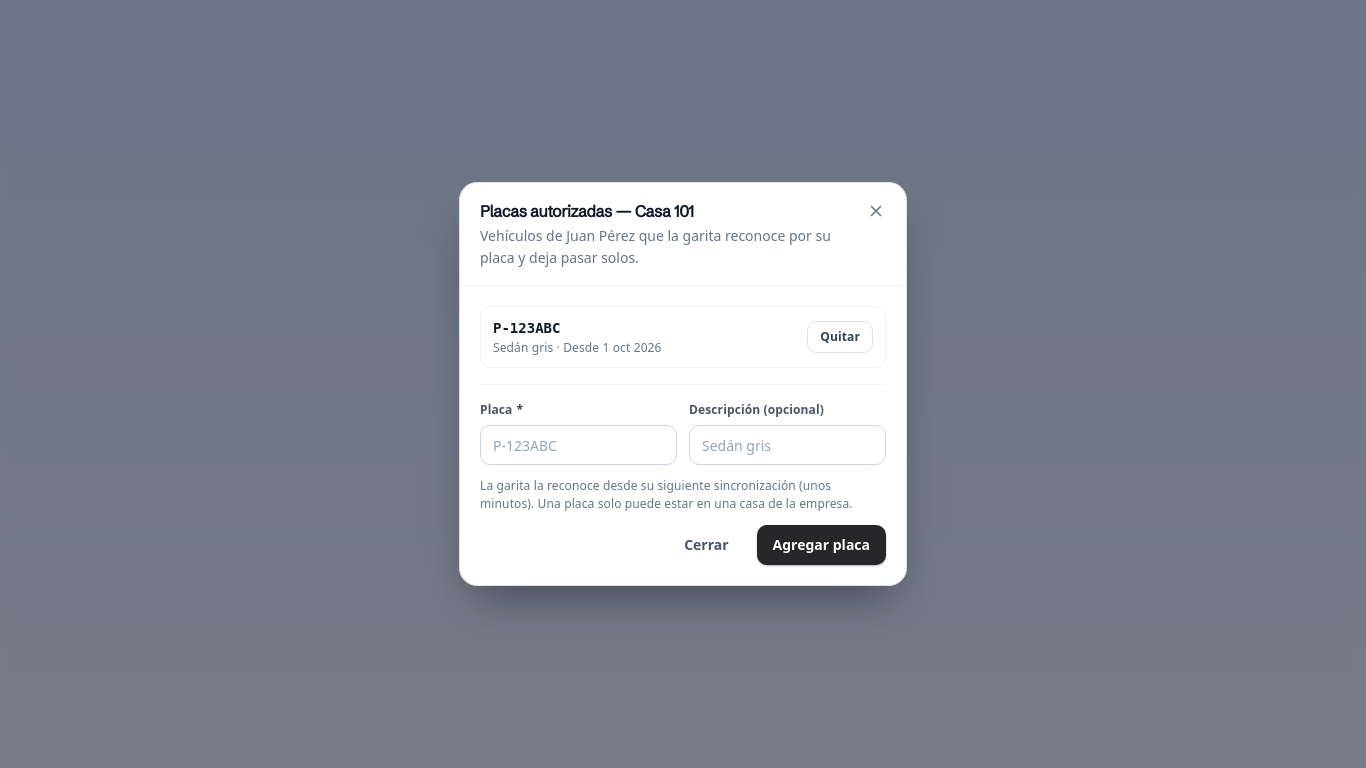
it: PlacasResidente › alta: valida el formato guatemalteco antes de enviar y agrega la placa normalizada
expect the text "P-123ABC" is shown: met, box [493,320,560,336]
Type "ABC1234" into the field labelled "Placa*" at point(578, 445), box [480,425,677,465]
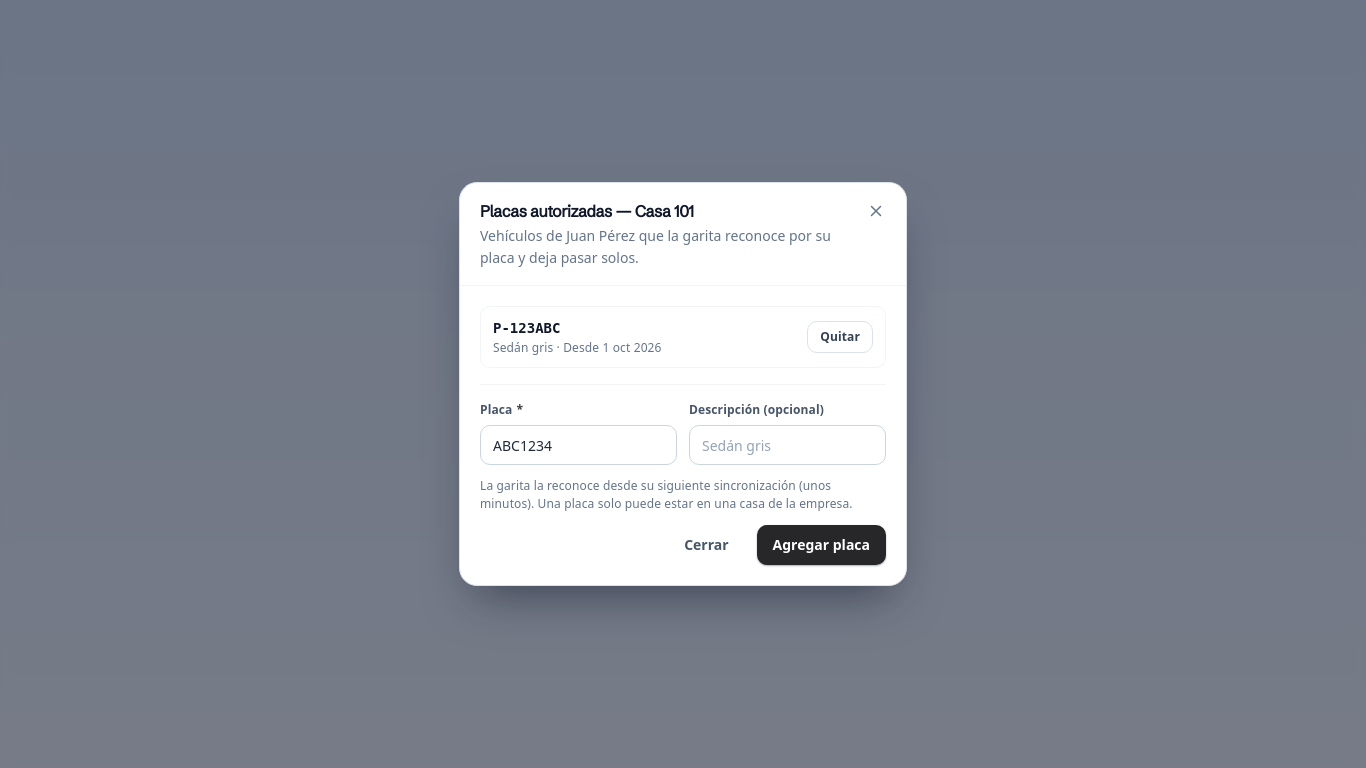
Click the button "Agregar placa" at point(821, 545), box [757,525,886,565]
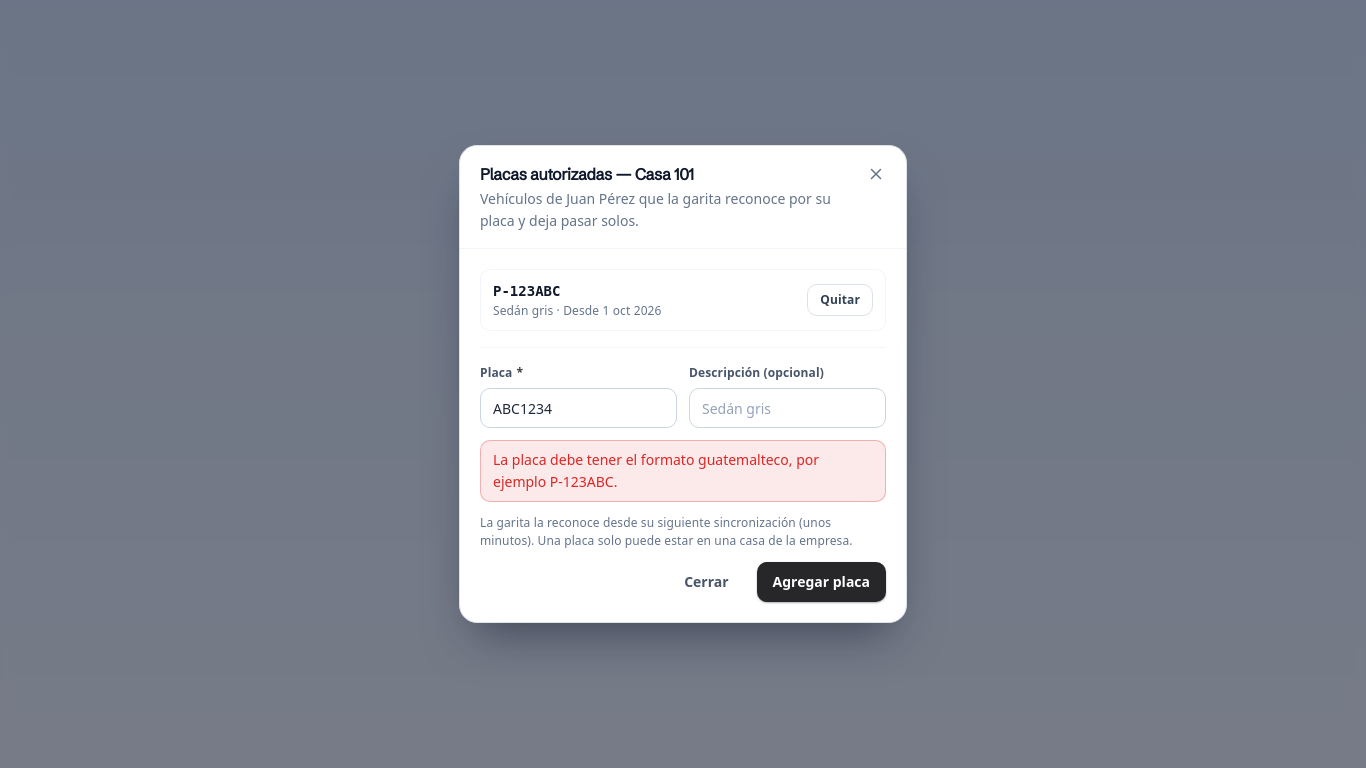
expect the message reads "La placa debe tener el formato guatemalteco, por ejemplo P-123ABC.": met, box [493,450,819,491]
Replace the text in the field labelled "Placa*" with "p 777res" at point(578, 408), box [480,388,677,428]
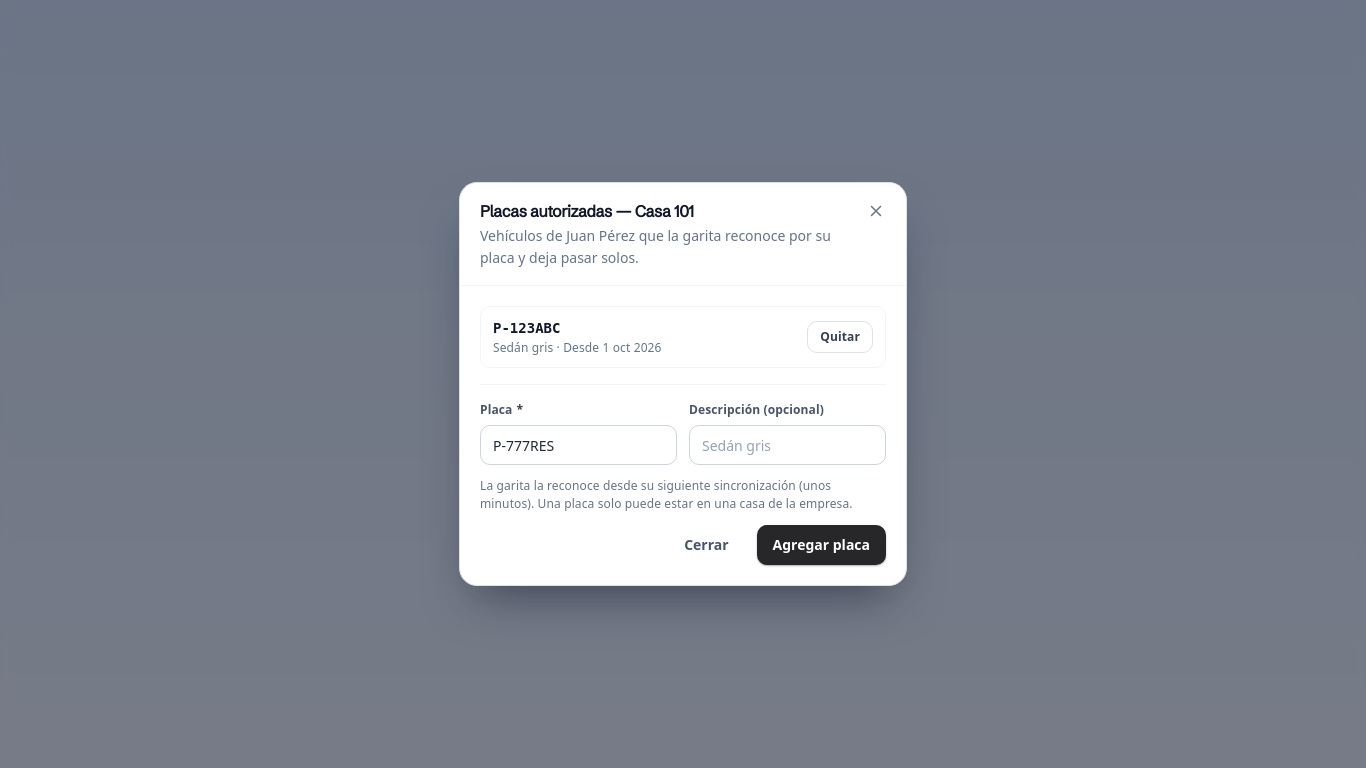
Type " Pickup " into the field labelled "Descripción (opcional)" at point(788, 445), box [689,425,886,465]
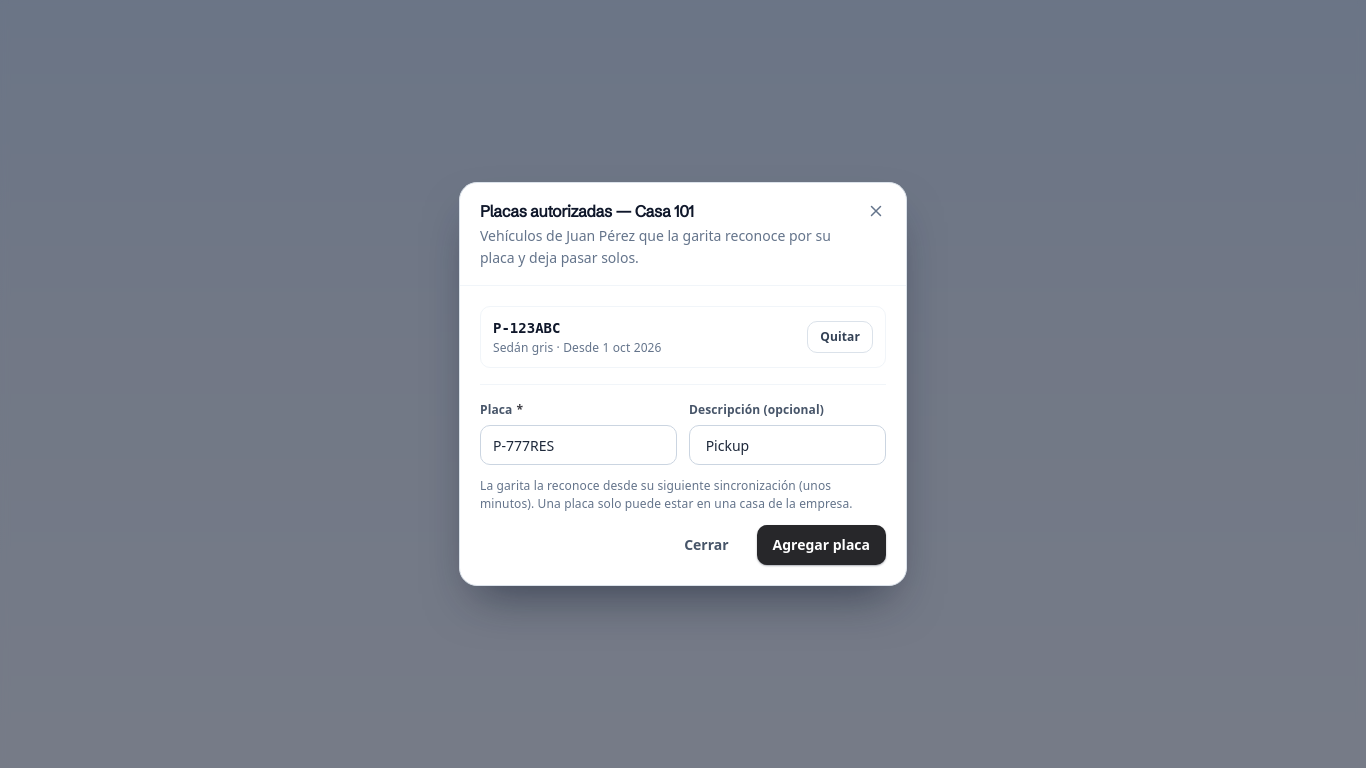
Click the button "Agregar placa" at point(821, 545), box [757,525,886,565]
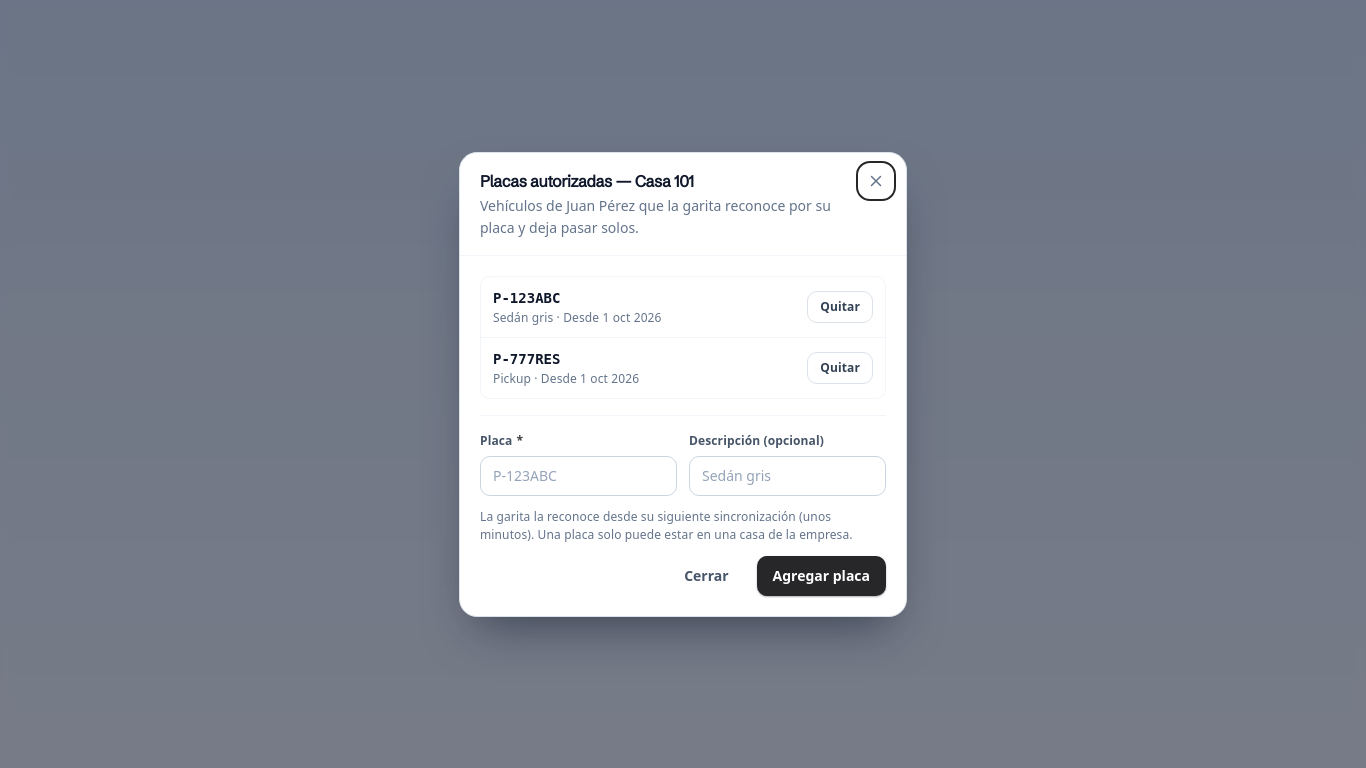
expect the text "P-777RES" is shown: met, box [493,350,560,366]
expect the field labelled "Placa*" is empty: met, box [480,456,677,496]
